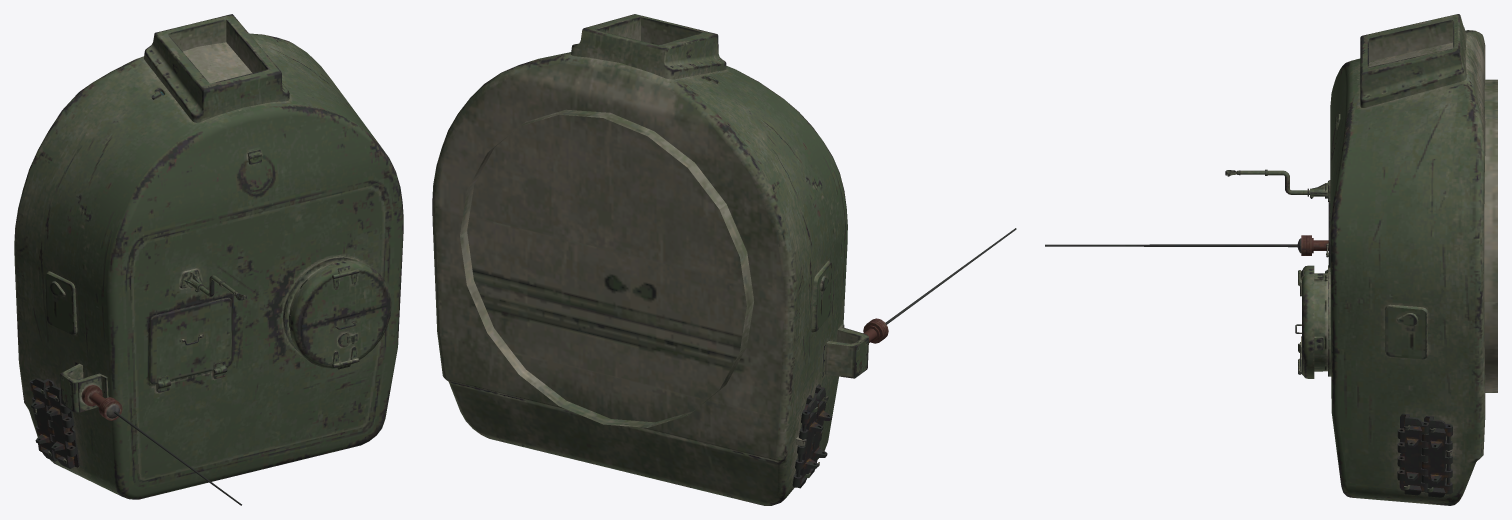
Rendered from Turret_01.glb.
3 renders of one model, left to right at view 1: azimuth 30°, elevation 25°; view 2: azimuth 150°, elevation 25°; view 3: azimuth 270°, elevation 25°, orthographic. The views are drawn at different scales.
Visible parts, largest first — view 1: set_0_group_0; view 2: set_0_group_0; view 3: set_0_group_0.
Part boxes in pixels (box(x1,y1,x2,y2)): set_0_group_0: box(14, 14, 403, 505); set_0_group_0: box(432, 14, 1016, 505); set_0_group_0: box(1045, 14, 1497, 505).
Bounding box in the file's own units: 2.68 × 3 × 3.01.
Materials: 1 (1 with a texture image).
